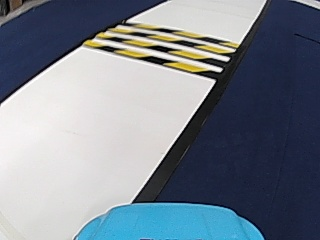bump: (113, 23, 225, 80)
